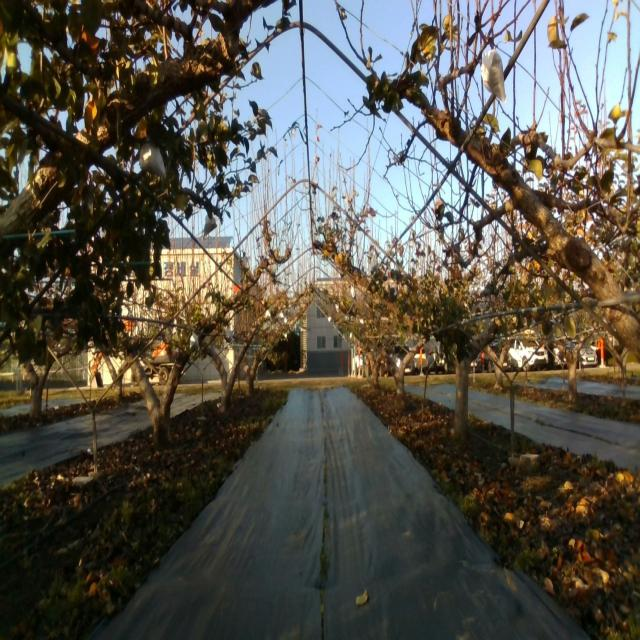pearbags: (481, 50, 506, 104), (139, 135, 166, 181), (204, 214, 217, 238), (189, 332, 200, 350)
